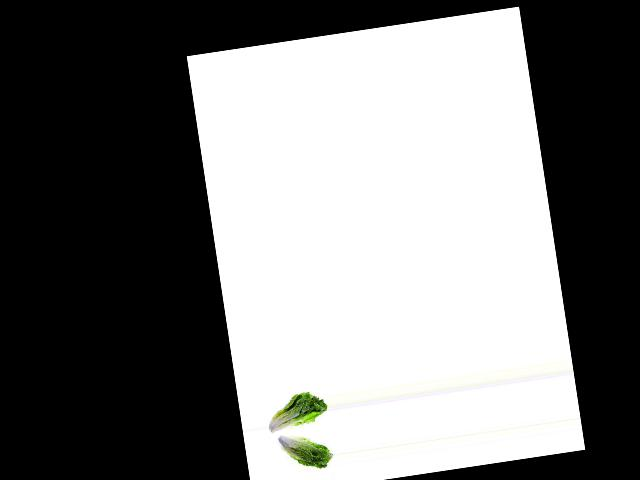lettuce: (271, 428, 333, 476)
